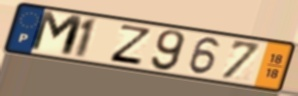1: (74, 16, 102, 61)
6: (187, 36, 221, 77)
7: (221, 38, 264, 82)
9: (150, 29, 187, 73)
M: (27, 9, 87, 59)
Z: (107, 23, 154, 67)
